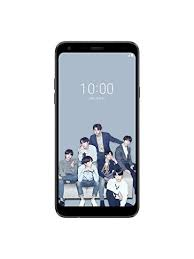lg: (51, 39, 142, 222)
